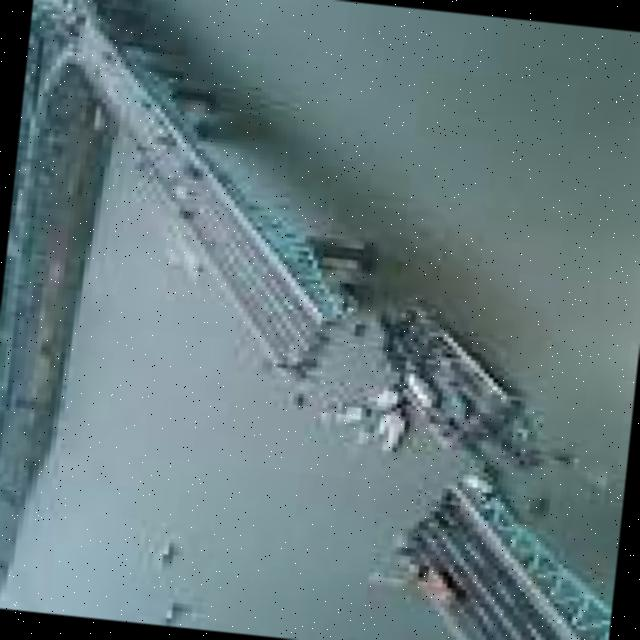bridge collapse: (12, 117, 640, 640)
